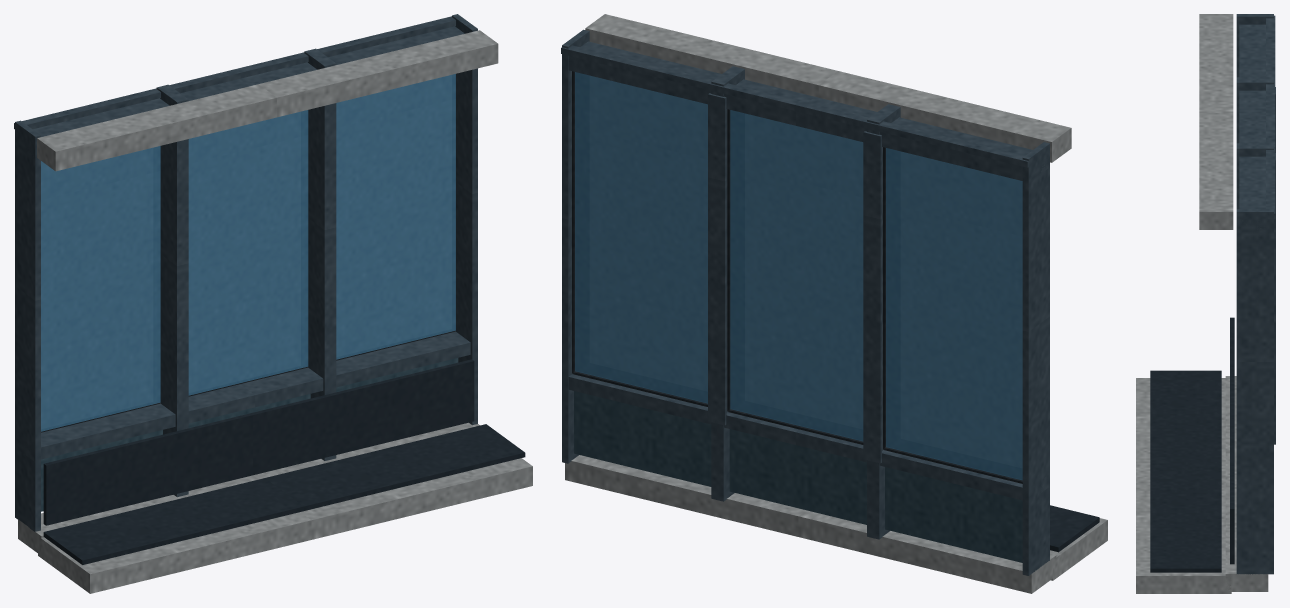
The picture shows the model from 3 angles, left to right: view 1: azimuth 30°, elevation 25°; view 2: azimuth 150°, elevation 25°; view 3: azimuth 270°, elevation 25°; orthographic projection. The views are drawn at different scales.
Parts seen in each view (by area): view 1: VIS_Glass_Panels, VIS_Aluminium_Mullions, VIS_Spandrel_Backpan, VIS_Slab_Soffit, VIS_Floor_Head, VIS_Aluminium_Transoms, VIS_Slab_Deck, VIS_Head_Flashing, VIS_Slab_Fascia, VIS_Spandrel_Opaque, VIS_Seals; view 2: VIS_Glass_Panels, VIS_Spandrel_Opaque, VIS_Aluminium_Mullions, VIS_Aluminium_Transoms, VIS_Floor_Head, VIS_Slab_Fascia, VIS_Mullion_FaceCaps, VIS_Head_Flashing, VIS_Seals, VIS_Slab_Soffit, VIS_Slab_Deck; view 3: VIS_Aluminium_Mullions, VIS_Slab_Soffit, VIS_Floor_Head, VIS_Slab_Deck, VIS_Aluminium_Transoms, VIS_Slab_Fascia, VIS_Head_Flashing, VIS_Spandrel_Backpan, VIS_Mullion_FaceCaps.
Part boxes in pixels (x1,y1,x2,y2): VIS_Glass_Panels: [41, 74, 455, 431]; VIS_Aluminium_Mullions: [15, 14, 477, 531]; VIS_Spandrel_Backpan: [43, 359, 474, 525]; VIS_Slab_Soffit: [43, 424, 525, 564]; VIS_Floor_Head: [37, 30, 498, 171]; VIS_Aluminium_Transoms: [15, 26, 470, 460]; VIS_Slab_Deck: [38, 458, 532, 593]; VIS_Head_Flashing: [14, 16, 455, 131]; VIS_Slab_Fascia: [18, 422, 479, 555]; VIS_Spandrel_Opaque: [41, 358, 458, 511]; VIS_Seals: [41, 146, 455, 432]; VIS_Glass_Panels: [575, 72, 1022, 480]; VIS_Spandrel_Opaque: [574, 391, 1022, 562]; VIS_Aluminium_Mullions: [562, 29, 1049, 575]; VIS_Aluminium_Transoms: [568, 41, 1048, 500]; VIS_Floor_Head: [585, 14, 1071, 162]; VIS_Slab_Fascia: [565, 455, 1056, 593]; VIS_Mullion_FaceCaps: [708, 93, 881, 463]; VIS_Head_Flashing: [561, 45, 1028, 167]; VIS_Seals: [572, 71, 1022, 483]; VIS_Slab_Soffit: [1050, 505, 1099, 552]; VIS_Slab_Deck: [1050, 518, 1107, 580]; VIS_Aluminium_Mullions: [1236, 14, 1273, 574]; VIS_Slab_Soffit: [1150, 370, 1221, 572]; VIS_Floor_Head: [1199, 14, 1233, 229]; VIS_Slab_Deck: [1136, 378, 1231, 593]; VIS_Aluminium_Transoms: [1239, 24, 1272, 508]; VIS_Slab_Fascia: [1225, 376, 1268, 591]; VIS_Head_Flashing: [1266, 15, 1275, 218]; VIS_Spandrel_Backpan: [1230, 317, 1234, 564]; VIS_Mullion_FaceCaps: [1274, 87, 1275, 444].
Bounding box in the file's own units: 4 × 3.6 × 1.19.
Materials: 6 (6 with a texture image).
